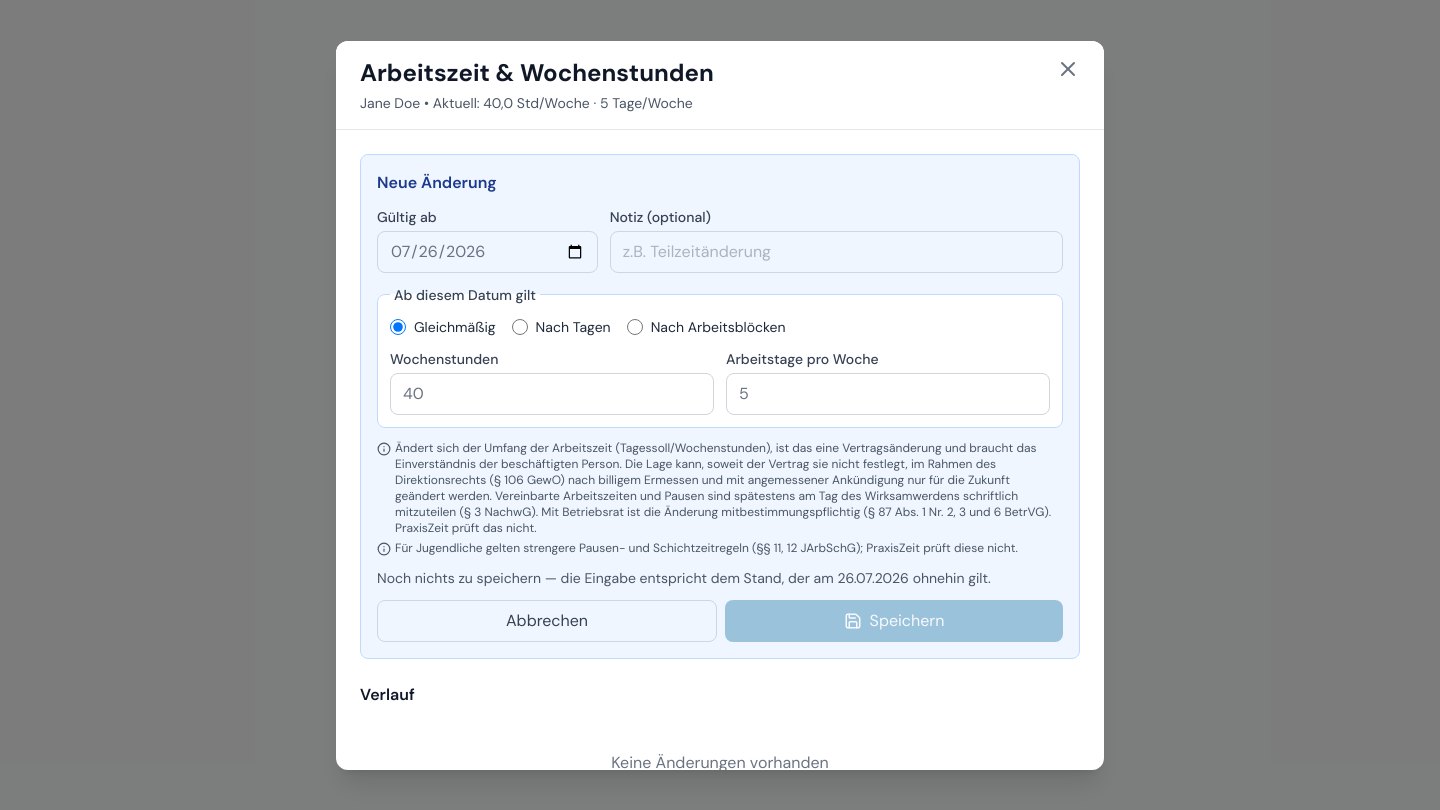
Test: #431: Modus-Umschalter, Tagesplan und erweiterte Vorschau › wechselt über die Modus-Auswahl von gleichmäßig auf Tagesplan
Expected: the text "Keine Änderungen vorhanden" is shown, x1=611 y1=752 x2=829 y2=770
Expected: the number field labelled "Wochenstunden" is shown, x1=390 y1=372 x2=714 y2=414
What coordinates should you click on to do the following:
click the radio button labelled "Nach Tagen"
I would click on:
 (520, 326)
Its box is x1=512 y1=318 x2=528 y2=334.
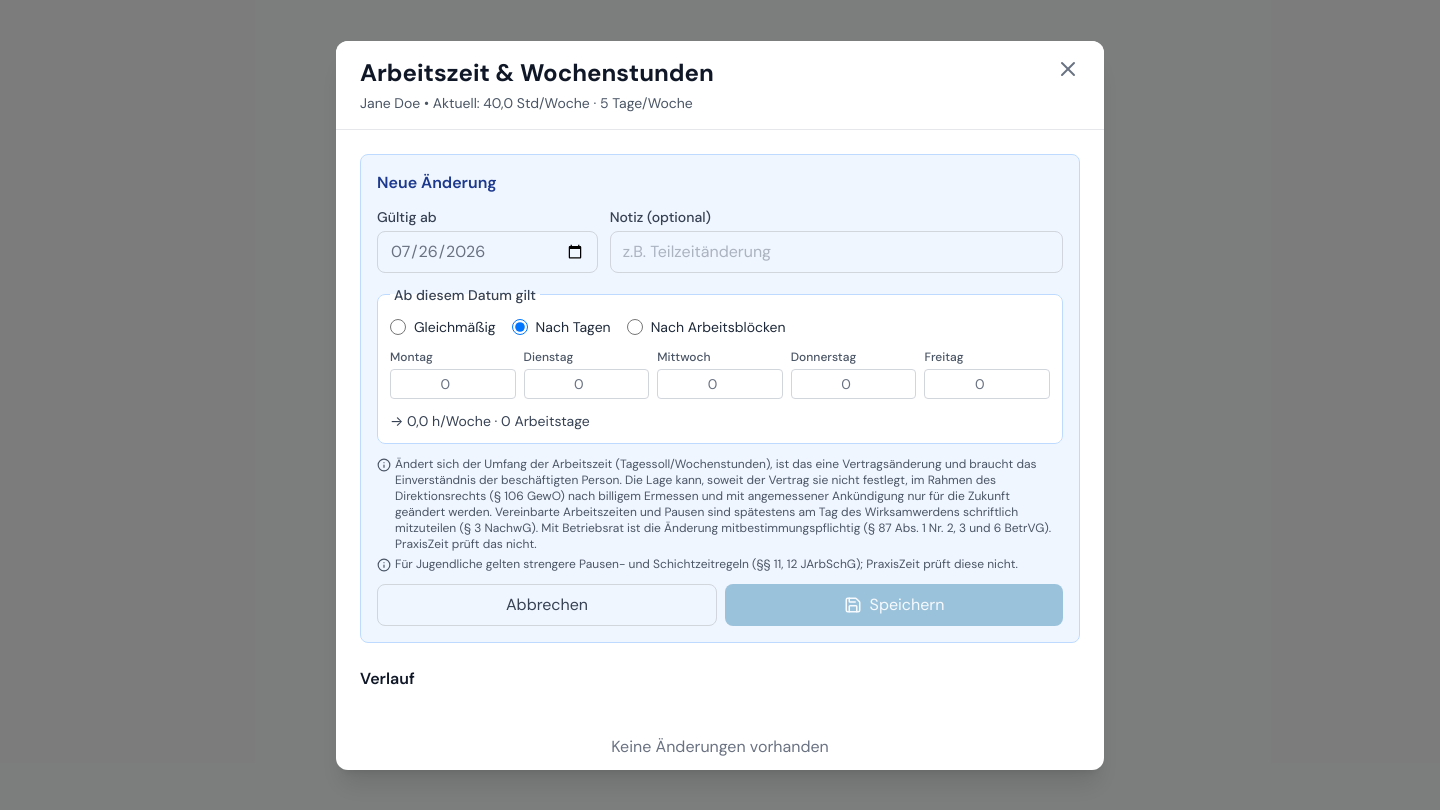
Expected: the number field labelled "Montag" is shown, x1=390 y1=368 x2=516 y2=398
